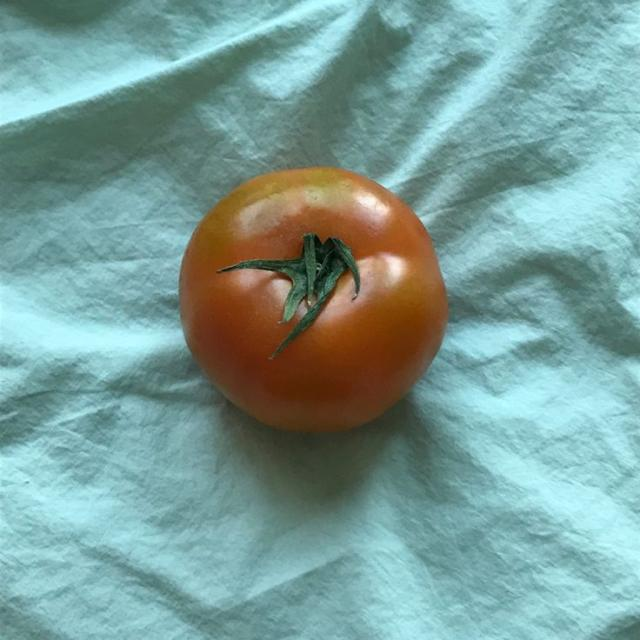tomato: (180, 168, 446, 431)
